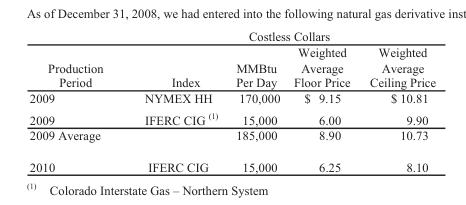table: (28, 29, 434, 173)
table column: (123, 29, 226, 173), (28, 29, 123, 173), (359, 29, 434, 173), (286, 29, 359, 173), (226, 29, 286, 173)
table column header: (28, 29, 434, 89)
table row: (28, 43, 434, 89), (28, 127, 434, 150), (28, 150, 434, 173), (28, 107, 434, 127), (28, 89, 434, 107), (28, 29, 434, 43)
table spanning cell: (28, 29, 123, 89), (123, 29, 434, 43)
